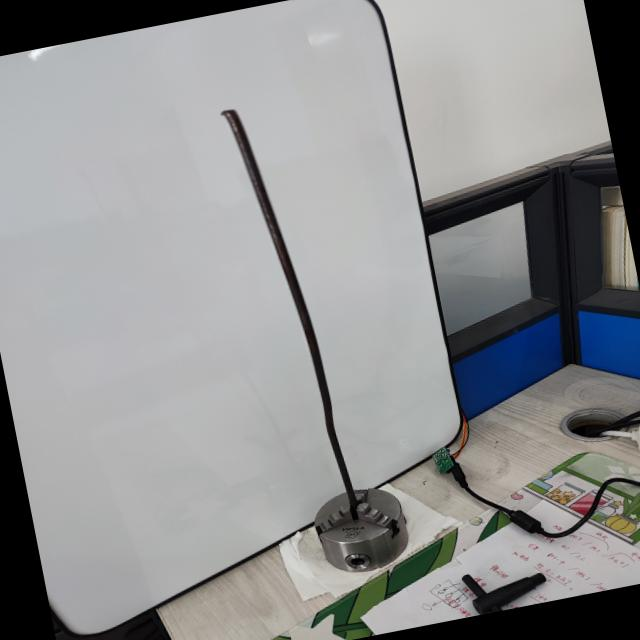plain round bar: (211, 92, 386, 520)
